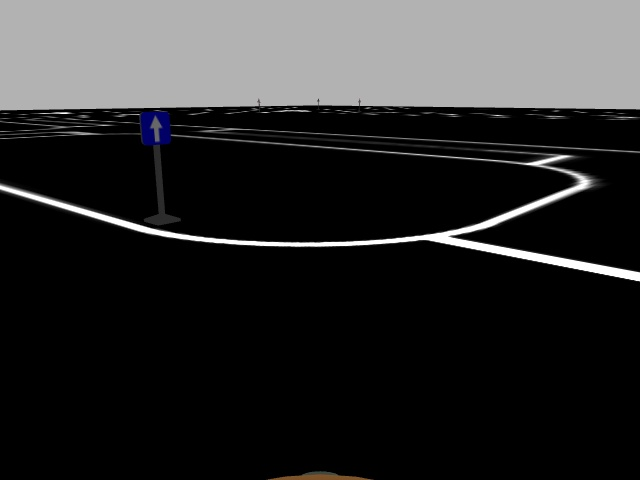oneway: (137, 109, 175, 148)
